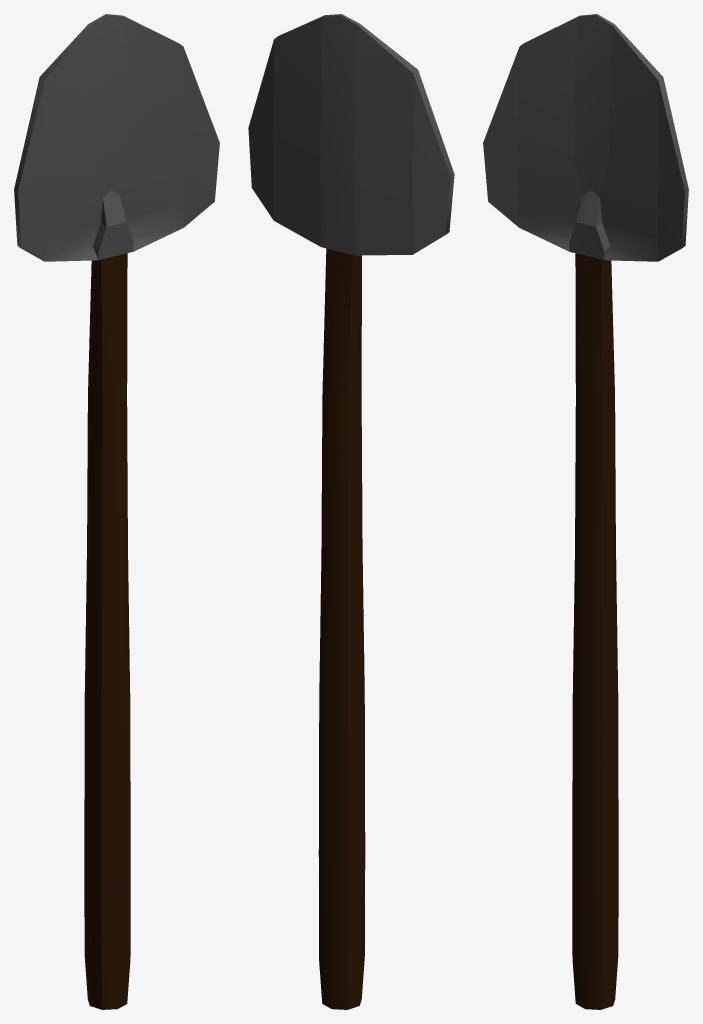
The model's file is Shovel.fbx.
The picture shows the model from 3 angles, left to right: view 1: azimuth 30°, elevation 25°; view 2: azimuth 150°, elevation 25°; view 3: azimuth 330°, elevation 25°; orthographic projection.
Visible parts, largest first — view 1: Shovel; view 2: Shovel; view 3: Shovel.
Part boxes in pixels (box(x1,y1,x2,y2)): Shovel: box(14, 14, 219, 1009); Shovel: box(248, 14, 454, 1009); Shovel: box(483, 14, 688, 1009).
Bounding box in the file's own units: 15.31 × 71.34 × 3.14.
